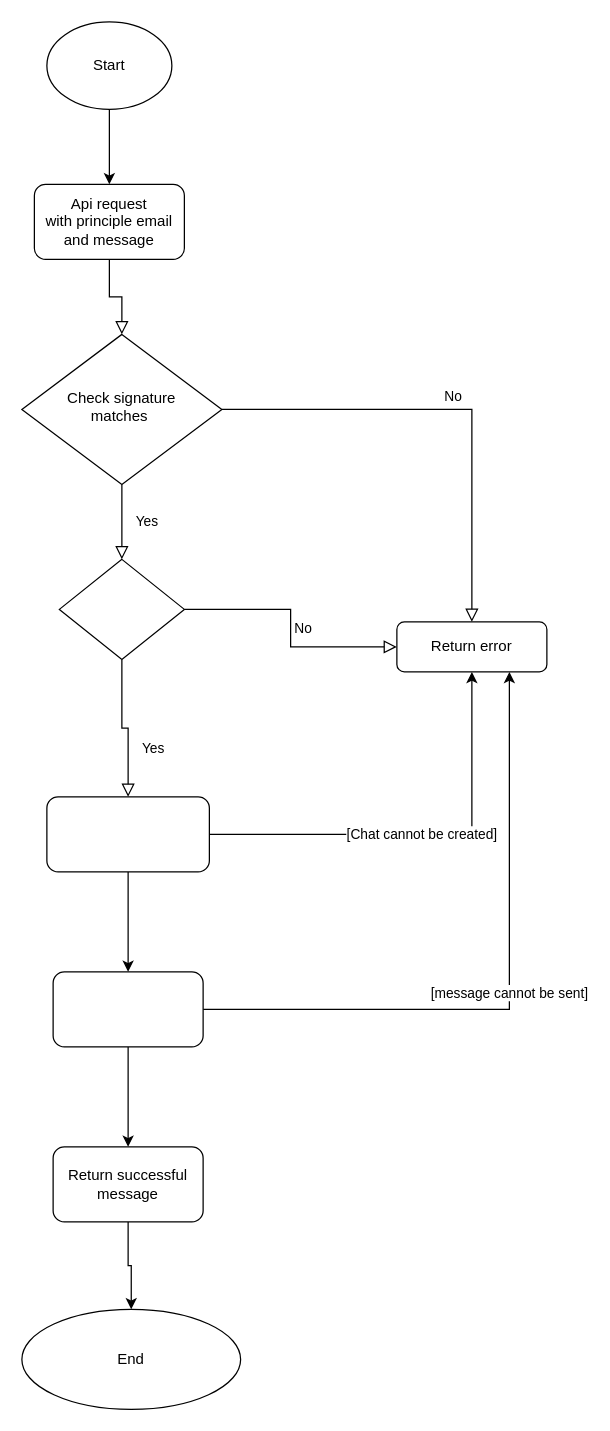
Image size: 610x1431. Some labels were removed from this diagram. The centre of each missing label's shape, as x and y in pixels:
Check email exists: pixel 121 608
Create/Get chat with Graph API: pixel 127 834
Send the message with the chat API: pixel 127 1009
